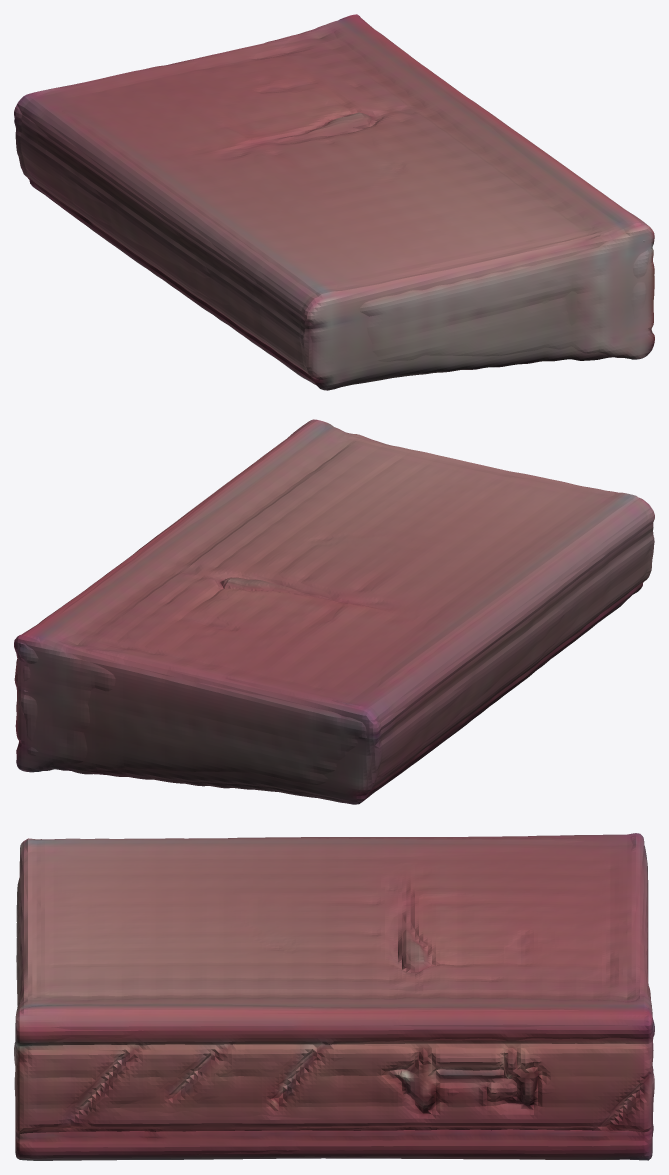
3 views of the same model, one above another, from view 1: azimuth 30°, elevation 25°; view 2: azimuth 150°, elevation 25°; view 3: azimuth 270°, elevation 25° (orthographic). The views are drawn at different scales.
Parts seen in each view (by area): view 1: world; view 2: world; view 3: world.
Part boxes in pixels (x1,y1,x2,y2): world: [14, 14, 654, 390]; world: [14, 419, 654, 804]; world: [14, 833, 654, 1160].
Bounding box in the file's own units: 0.7278 × 0.2697 × 1.03.
